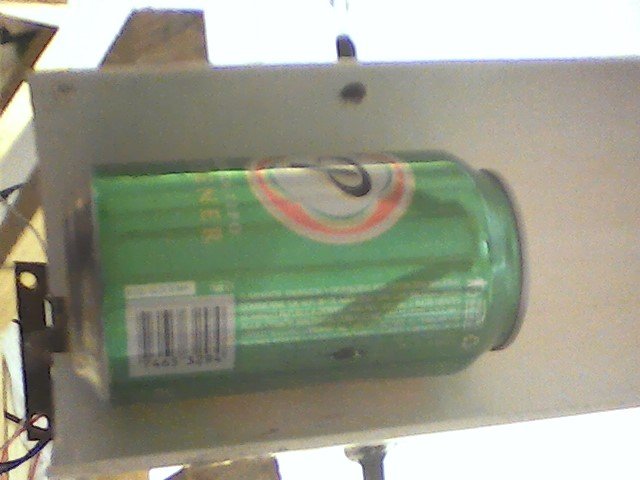lata: (56, 143, 537, 416)
